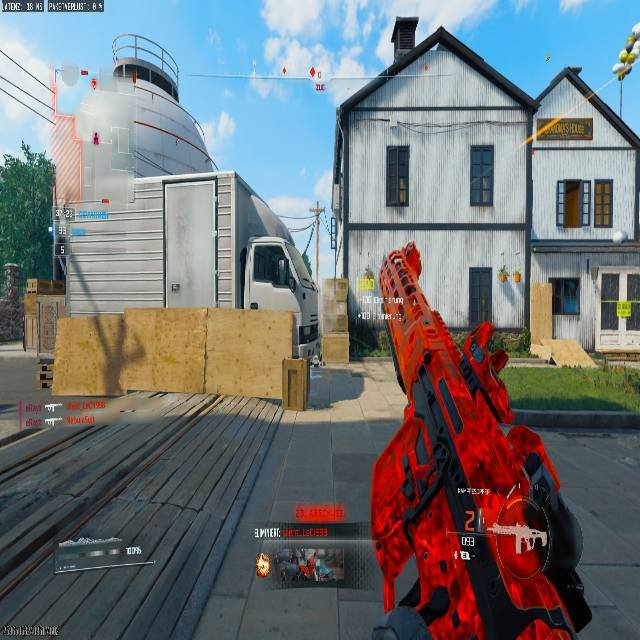player: (36, 358, 52, 391)
